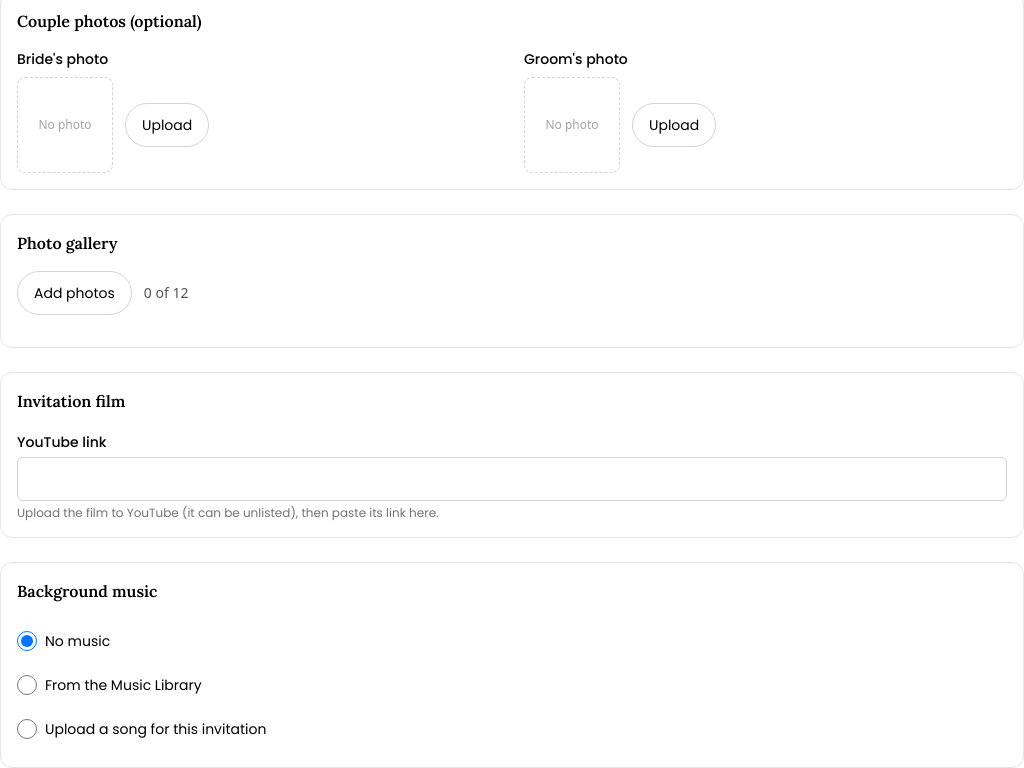
Test: music › uploads a song for this invitation only
(page scrolled)
Click the radio button labelled "Upload a song for this invitation": (27,729) [17,719,37,739]
(page scrolled)
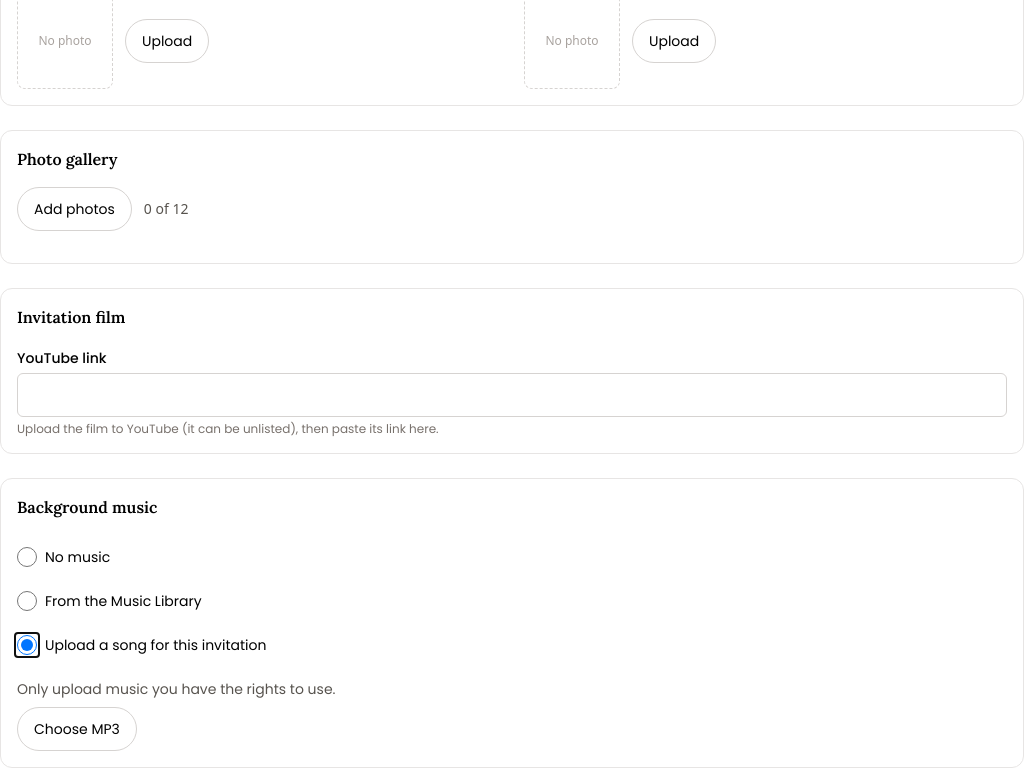
Expected: the text "Only upload music you have the rights to use." is shown, [17,679,336,699]
